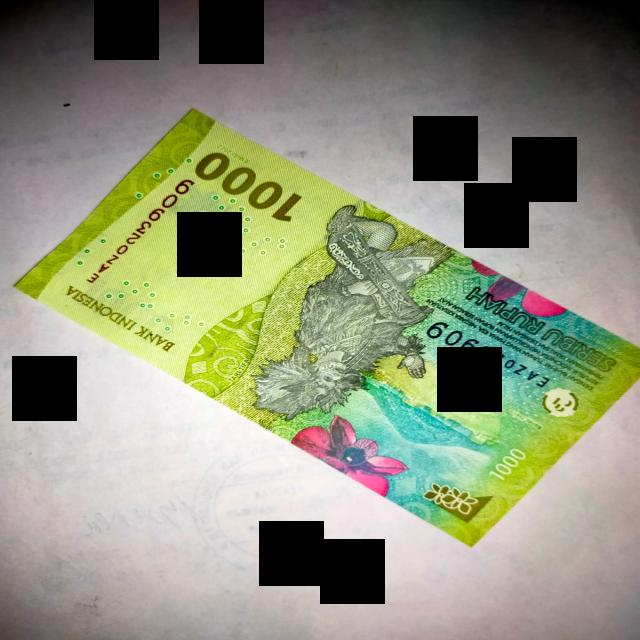seribu rupiah: (17, 111, 638, 545)
